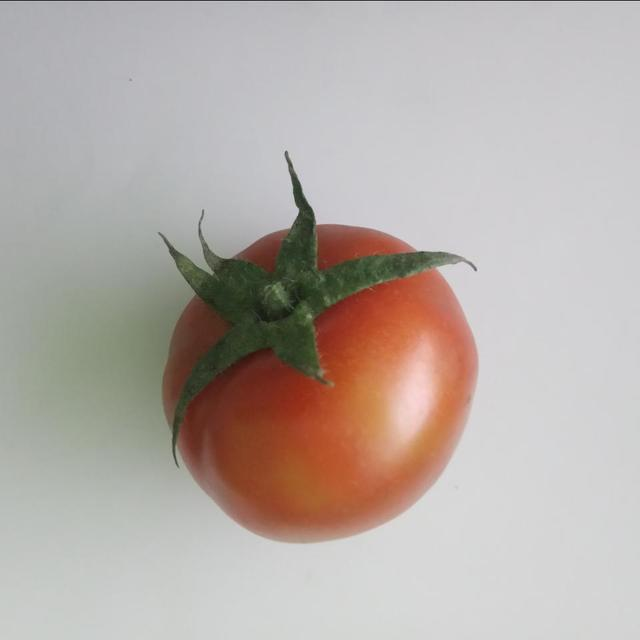Healthy Fruit: (103, 143, 324, 367)
